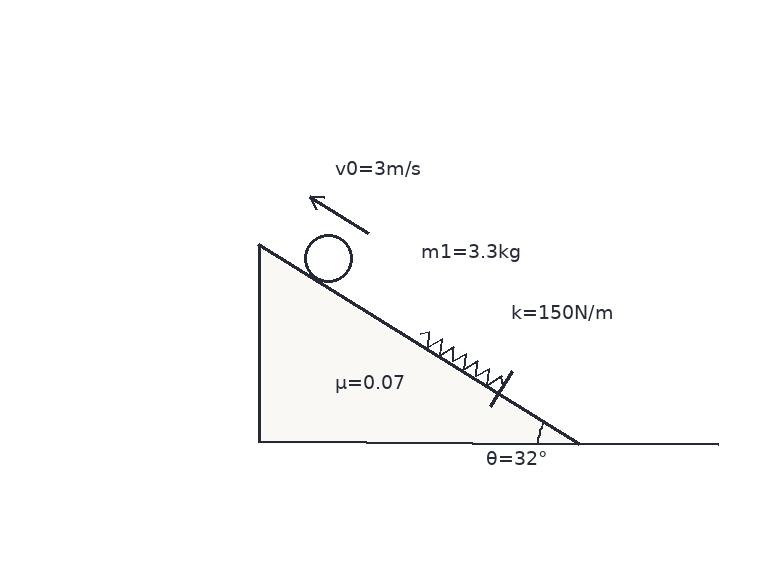ball: (302, 232, 354, 284)
ramp: (257, 242, 580, 445)
spring: (418, 330, 505, 388)
